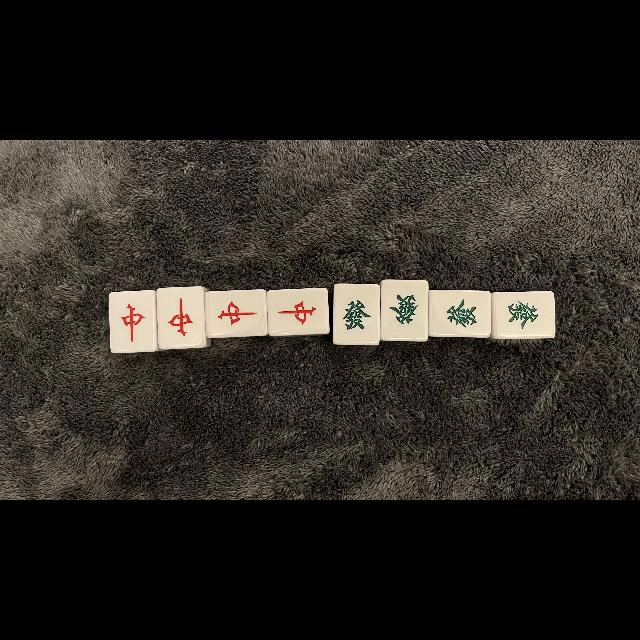dg: (430, 290, 490, 336), (383, 280, 427, 340), (496, 293, 554, 337), (335, 286, 377, 344)
dr: (110, 292, 156, 352), (158, 288, 204, 346), (207, 292, 267, 334), (268, 290, 328, 332)
